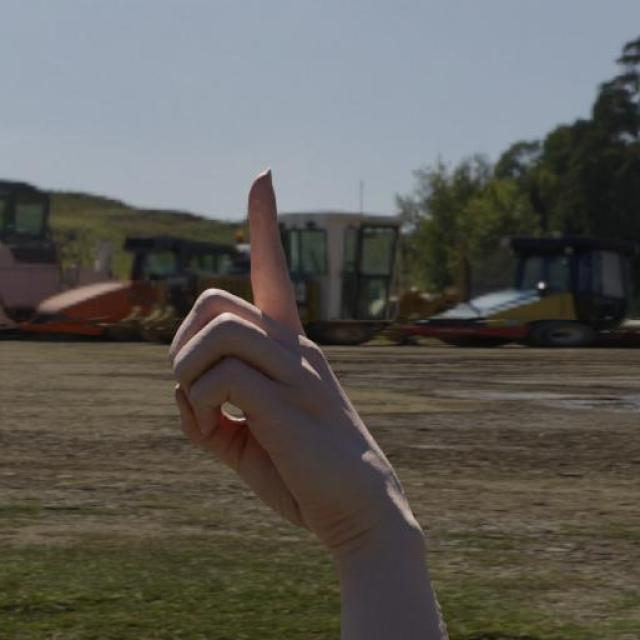D: (168, 160, 397, 526)
